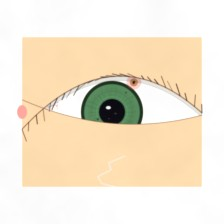foreign_body_visible: (126, 76, 142, 89)
